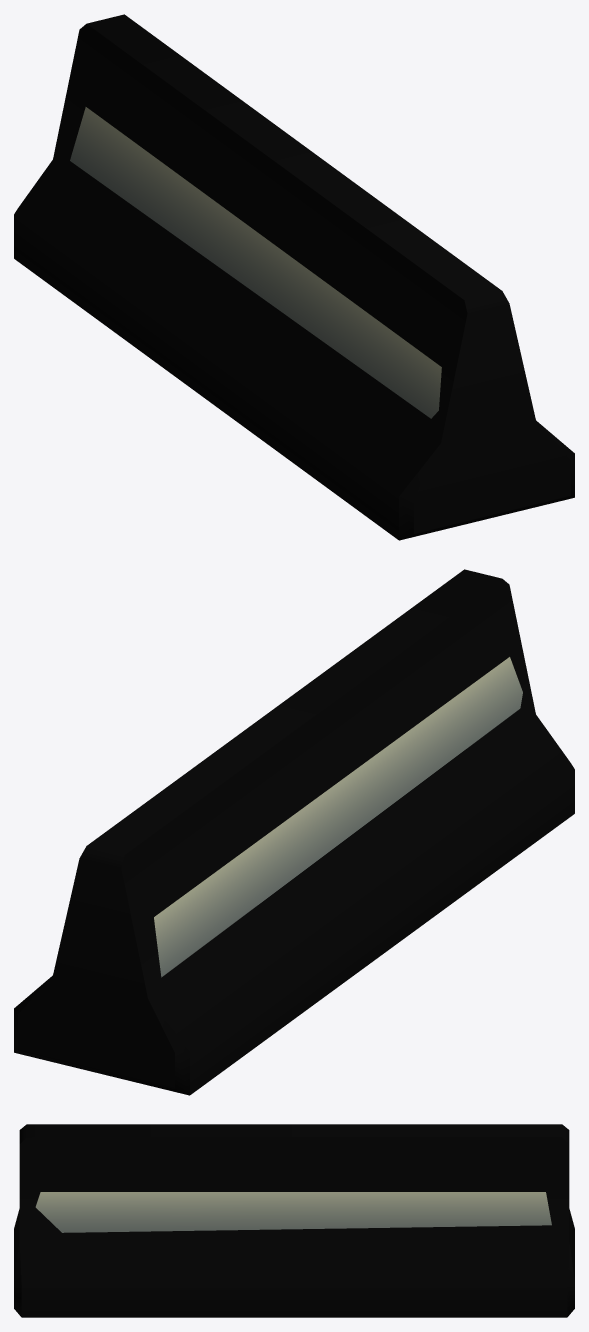
File: Concrete_Barrier_1A.fbx
3 renders of one model, top to bottom at view 1: azimuth 30°, elevation 25°; view 2: azimuth 150°, elevation 25°; view 3: azimuth 270°, elevation 25°, orthographic. The views are drawn at different scales.
Parts seen in each view (by area): view 1: Concrete_Barrier_1A; view 2: Concrete_Barrier_1A; view 3: Concrete_Barrier_1A.
Part boxes in pixels (x1,y1,x2,y2): Concrete_Barrier_1A: (14, 14, 574, 540); Concrete_Barrier_1A: (14, 569, 574, 1095); Concrete_Barrier_1A: (14, 1124, 574, 1317).
Bounding box in the file's own units: 1 × 1.2 × 3.9.
